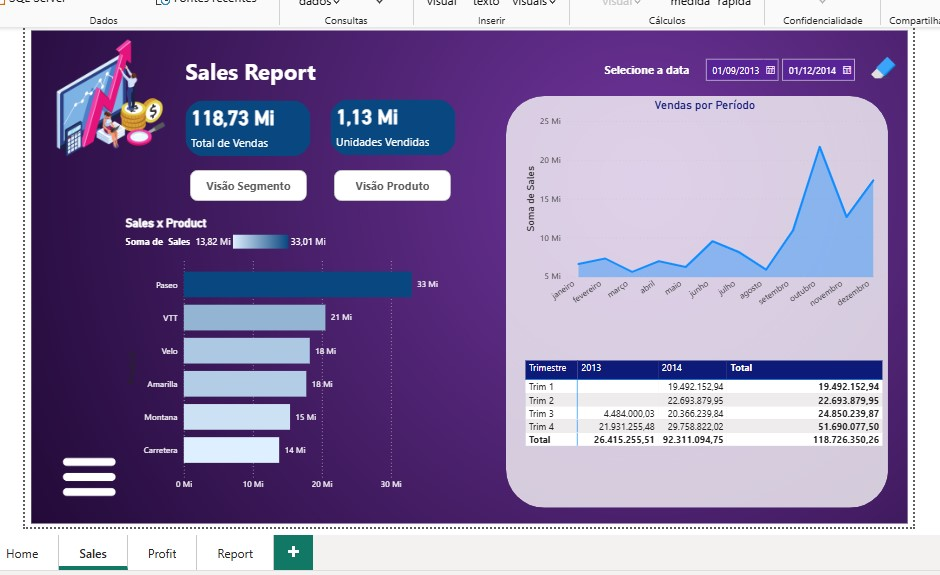

The dashboard page shown, as its layout file describes it:
{"tool":"powerbi","page":{"name":"Sales","canvas":[1280,720],"ordinal":1},"visuals":[{"type":"image","box":[0,0,1279.9,720],"z":0},{"type":"image","box":[48.9,603.9,89.2,89.2],"z":1000},{"type":"image","box":[33,13.4,180.9,178.5],"z":2000},{"type":"textbox","box":[226.1,36,208.8,54.7],"z":3000},{"type":"cardVisual","fields":{"Data":["Sum(financials. Sales)"]},"box":[226.1,100.8,190,90],"z":4000},{"type":"cardVisual","fields":{"Data":["Sum(financials.Units Sold)"]},"box":[434.9,99.4,190,90],"z":5000},{"type":"actionButton","box":[237.6,205.9,168.5,44.6],"z":7000},{"type":"actionButton","box":[445,205.9,168.5,44.6],"z":8000},{"type":"shape","box":[692.1,99.1,550.3,593],"z":9000},{"type":"areaChart","title":"Vendas por Período","fields":{"Category":["financials.Date.Variation.Hierarquia de datas.Ano","financials.Date.Variation.Hierarquia de datas.Trimestre","financials.Date.Variation.Hierarquia de datas.Mês","financials.Date.Variation.Hierarquia de datas.Dia"],"Y":["Sum(financials. Sales)"]},"box":[716,102.5,526.4,323],"z":10000},{"type":"pivotTable","fields":{"Columns":["financials.Year"],"Rows":["financials.Date.Variation.Hierarquia de datas.Trimestre"],"Values":["Sum(financials. Sales)"]},"box":[716,475.1,526.4,172.6],"z":11000},{"type":"slicer","fields":{"Values":["financials.Date"]},"box":[967.7,36,239,43.2],"z":12000},{"type":"textbox","box":[829.4,46.1,138.2,34.6],"z":13000},{"type":"image","box":[1206.7,36,59,44.6],"z":14000},{"type":"barChart","title":"Sales x Product","fields":{"Category":["financials.Product"],"Y":["Sum(financials. Sales)"]},"box":[139.7,272.7,475.1,405],"z":15000}]}

Visuals, with their boxes on the page's 1280x720 design canvas (x1, y1, x2, y2). These are canvas units, not pixel positions in the 940x575 screenshot, which may show the page scaled, cropped or inside an application window:
image: 0,0,1280,720
image: 49,604,138,693
image: 33,13,214,192
textbox: 226,36,435,91
cardVisual - Sum(financials. Sales): 226,101,416,191
cardVisual - Sum(financials.Units Sold): 435,99,625,189
actionButton: 238,206,406,250
actionButton: 445,206,614,250
shape: 692,99,1242,692
"Vendas por Período" areaChart: 716,102,1242,426
pivotTable - financials.Year x financials.Date.Variation.Hierarquia de datas.Trimestre: 716,475,1242,648
slicer - financials.Date: 968,36,1207,79
textbox: 829,46,968,81
image: 1207,36,1266,81
"Sales x Product" barChart: 140,273,615,678
